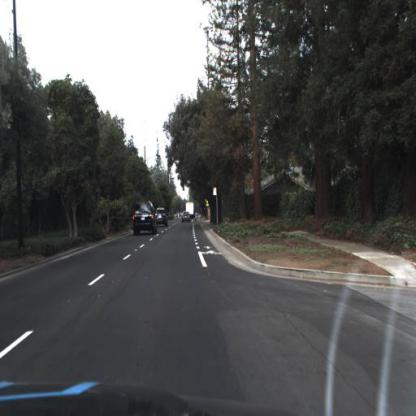car: (131, 200, 159, 238), (157, 205, 169, 229), (185, 201, 196, 217), (182, 210, 193, 224)
truck: (184, 199, 197, 225)
